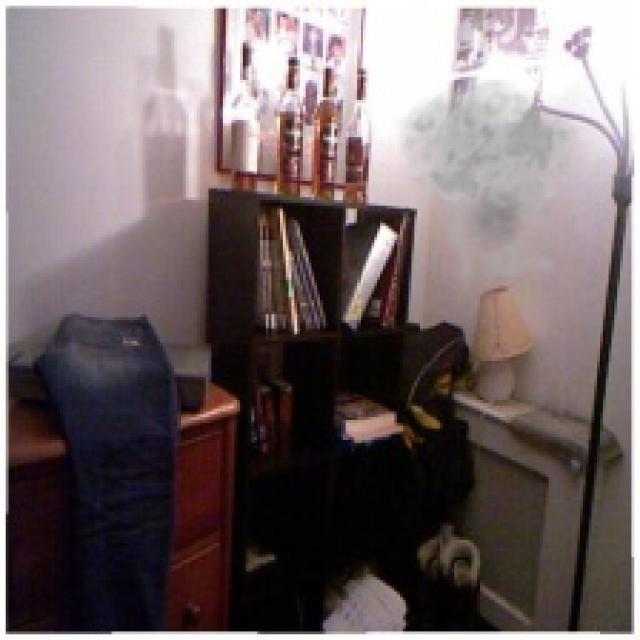Smoke: (392, 77, 597, 297)
